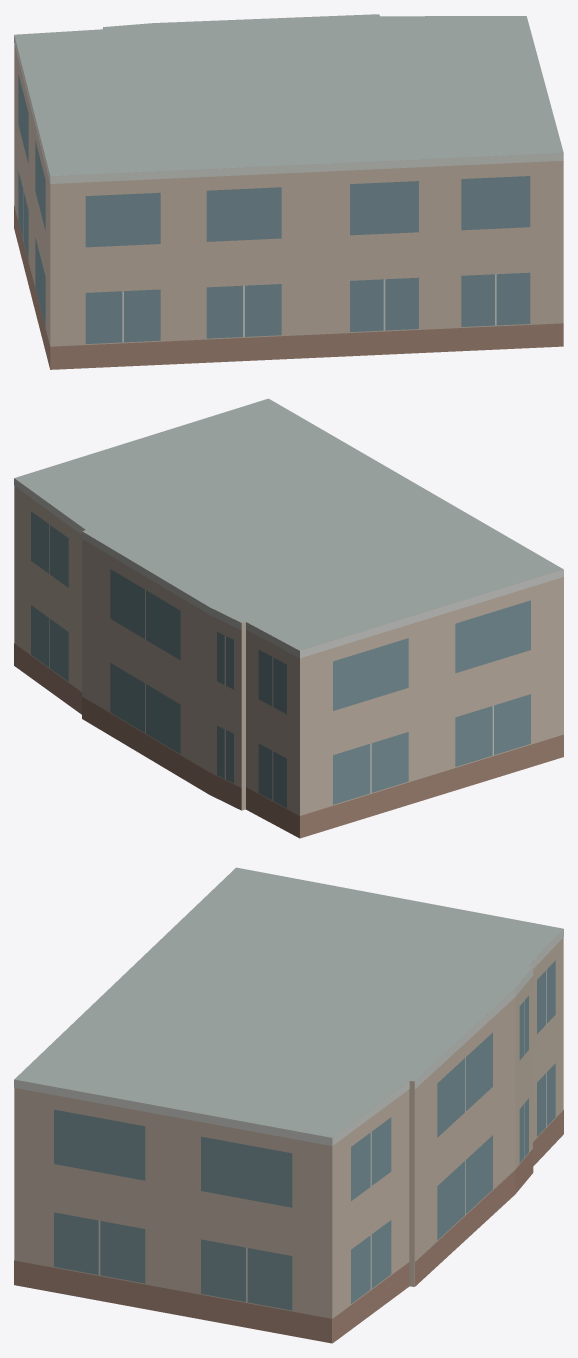
Rendered from survey-upis-32567326.glb.
3 views of the same model, one above another, from view 1: azimuth 30°, elevation 25°; view 2: azimuth 150°, elevation 25°; view 3: azimuth 270°, elevation 25° (orthographic). The views are drawn at different scales.
Visible parts, largest first — view 1: survey-upis-32567326.tmp; view 2: survey-upis-32567326.tmp; view 3: survey-upis-32567326.tmp.
Part boxes in pixels (x1,y1,x2,y2): survey-upis-32567326.tmp: (14,14,563,369); survey-upis-32567326.tmp: (14,398,563,838); survey-upis-32567326.tmp: (14,867,563,1343).
Bounding box in the file's own units: 17.22 × 6.1 × 14.79.
